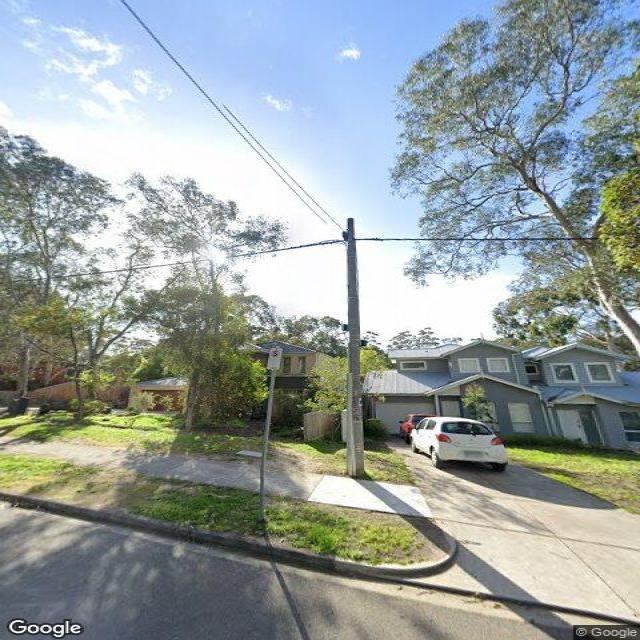timber-pole: (344, 215, 367, 476)
